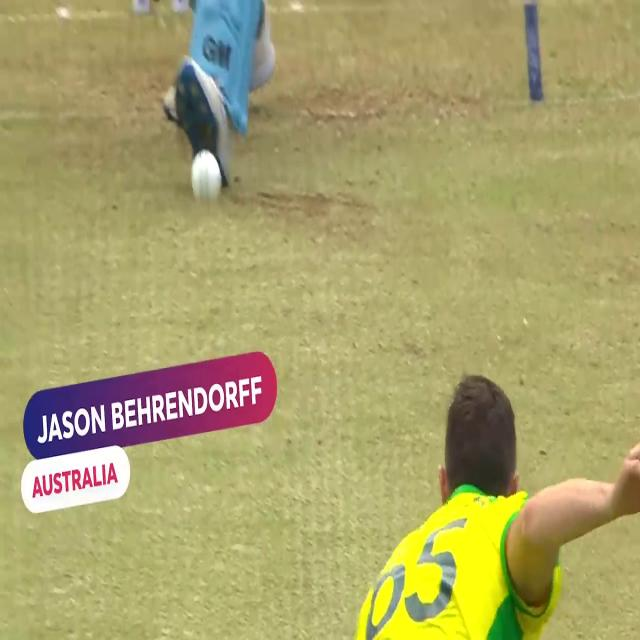ball: (188, 145, 224, 212)
